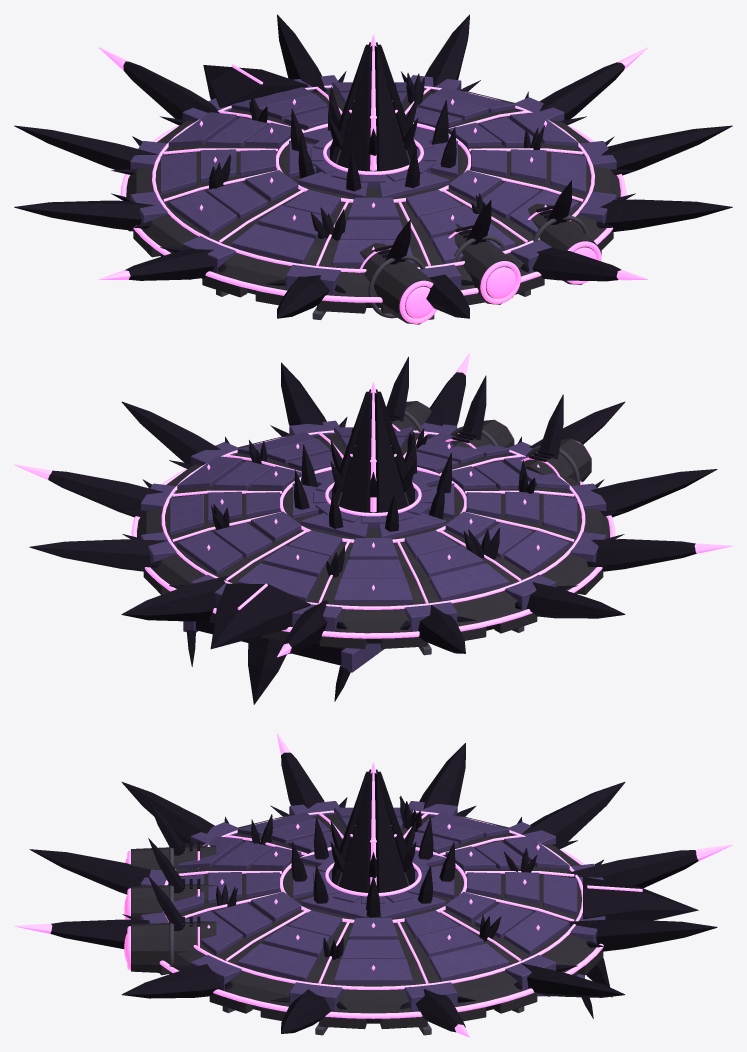
File: mothership.glb
The picture shows the model from 3 angles, top to bottom: view 1: azimuth 30°, elevation 25°; view 2: azimuth 150°, elevation 25°; view 3: azimuth 270°, elevation 25°; orthographic projection. The views are drawn at different scales.
Visible parts, largest first — view 1: Mothership.001; view 2: Mothership.001; view 3: Mothership.001.
Part boxes in pixels (bbox=[...]): Mothership.001: bbox=[14, 14, 732, 324]; Mothership.001: bbox=[14, 353, 732, 704]; Mothership.001: bbox=[14, 733, 732, 1037].
Size of the model in its own units: 10.96 by 3.96 by 10.96.
Materials: 7 (7 with a texture image).
